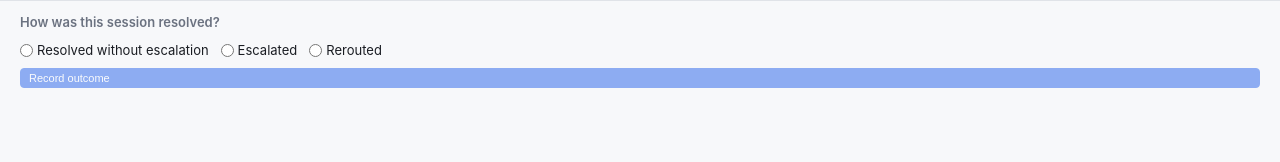
Test: OutcomeWidget › logs warning and stays interactive on submit failure
This screenshot has width=1280, height=162.
Click the radio button with test id "resolution-ResolvedWithoutEscalation". click: (26, 50)
box: [20,44,33,57]
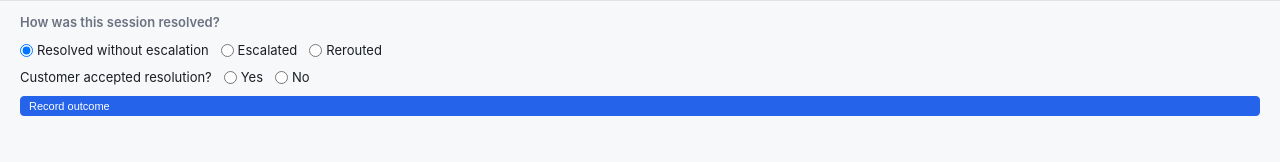
Click the button with test id "submit-outcome". click: (69, 106)
box: [20,96,1260,116]
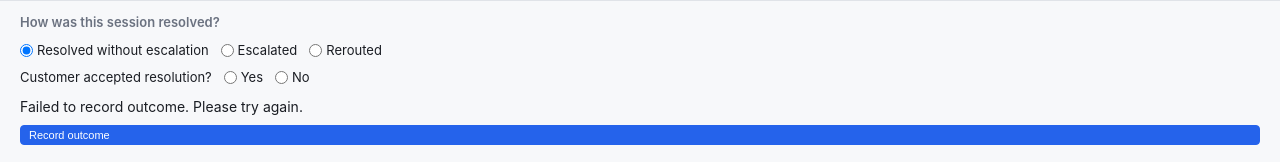
Check: the button with test id "submit-outcome" is enabled, box [20,124,1260,144]
Check: the message with test id "outcome-error" shows "Failed to record outcome", box [20,98,303,114]
